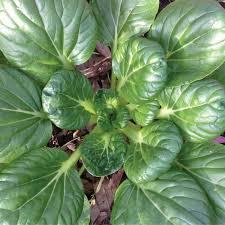Healthy-Pechay: (1, 1, 224, 222), (1, 170, 53, 191), (166, 55, 214, 64)
